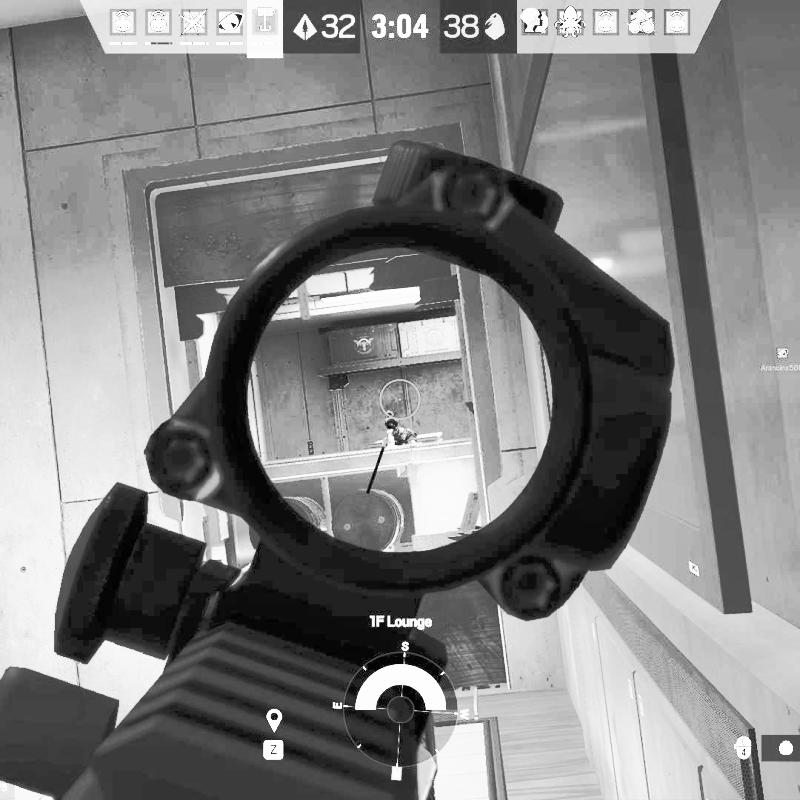Character: (383, 412, 418, 445)
Friend_label: (760, 346, 800, 372)
Head: (384, 417, 398, 433)
